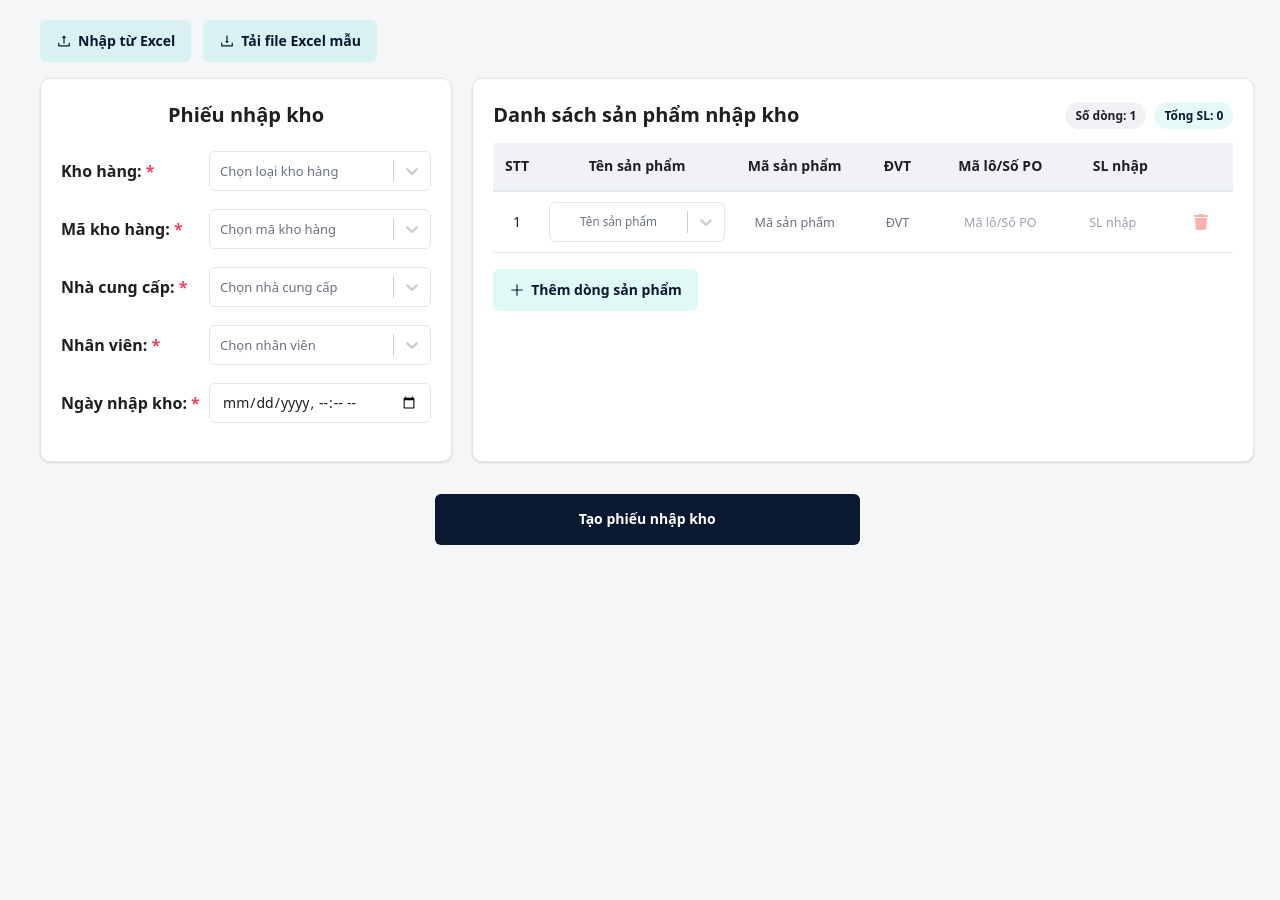
Test case: CreateGoodReceipt › submit khi chưa chọn gì -> báo đủ lỗi validate, không gọi API tạo phiếu
This screenshot has width=1280, height=900.
Click the button "Tạo phiếu nhập kho": x=647, y=520 [435,494,860,545]
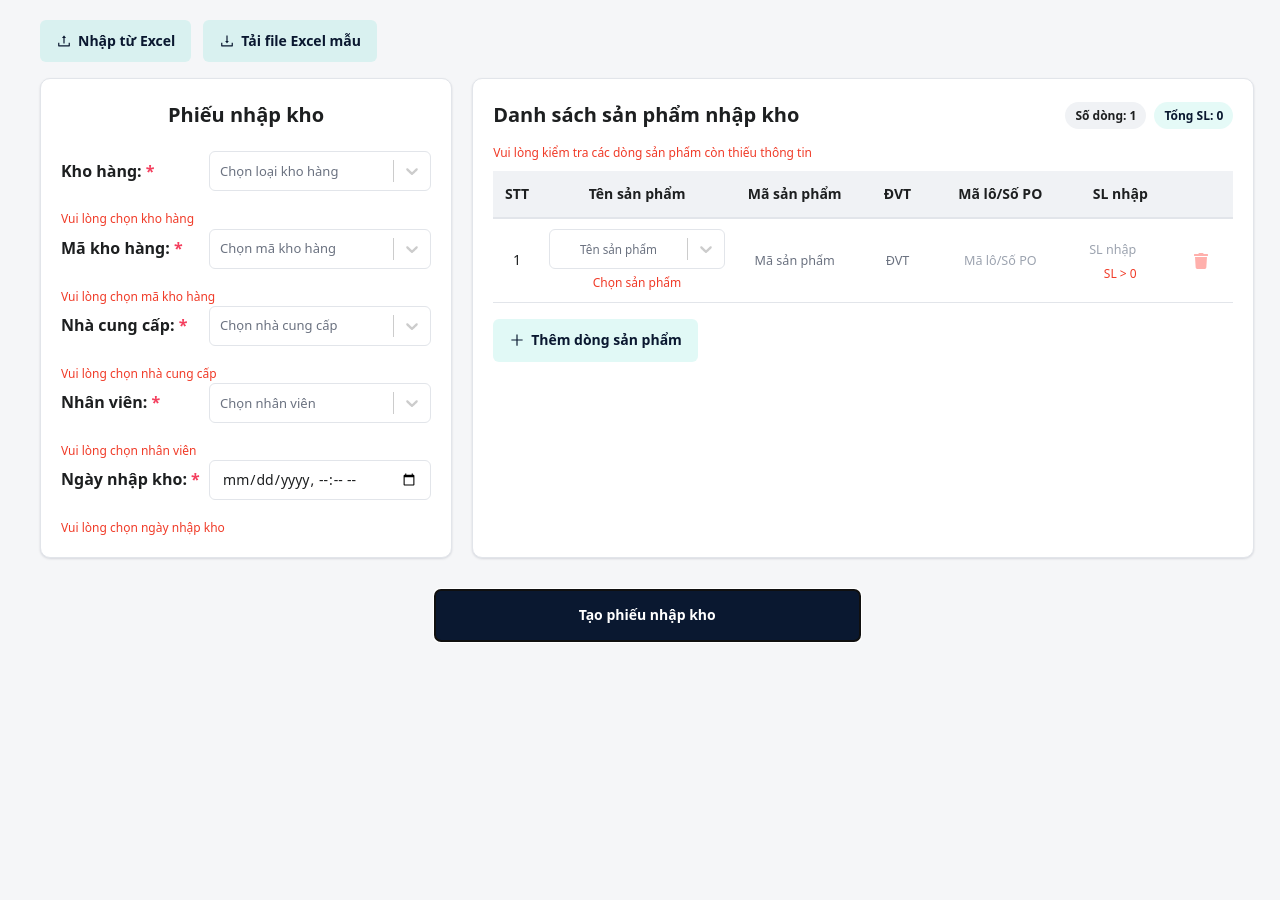
Expected: the text "Vui lòng chọn kho hàng" is shown, [61,210,194,227]
Expected: the text "Vui lòng chọn mã kho hàng" is shown, [61,288,215,305]
Expected: the text "Vui lòng chọn nhà cung cấp" is shown, [61,365,217,382]
